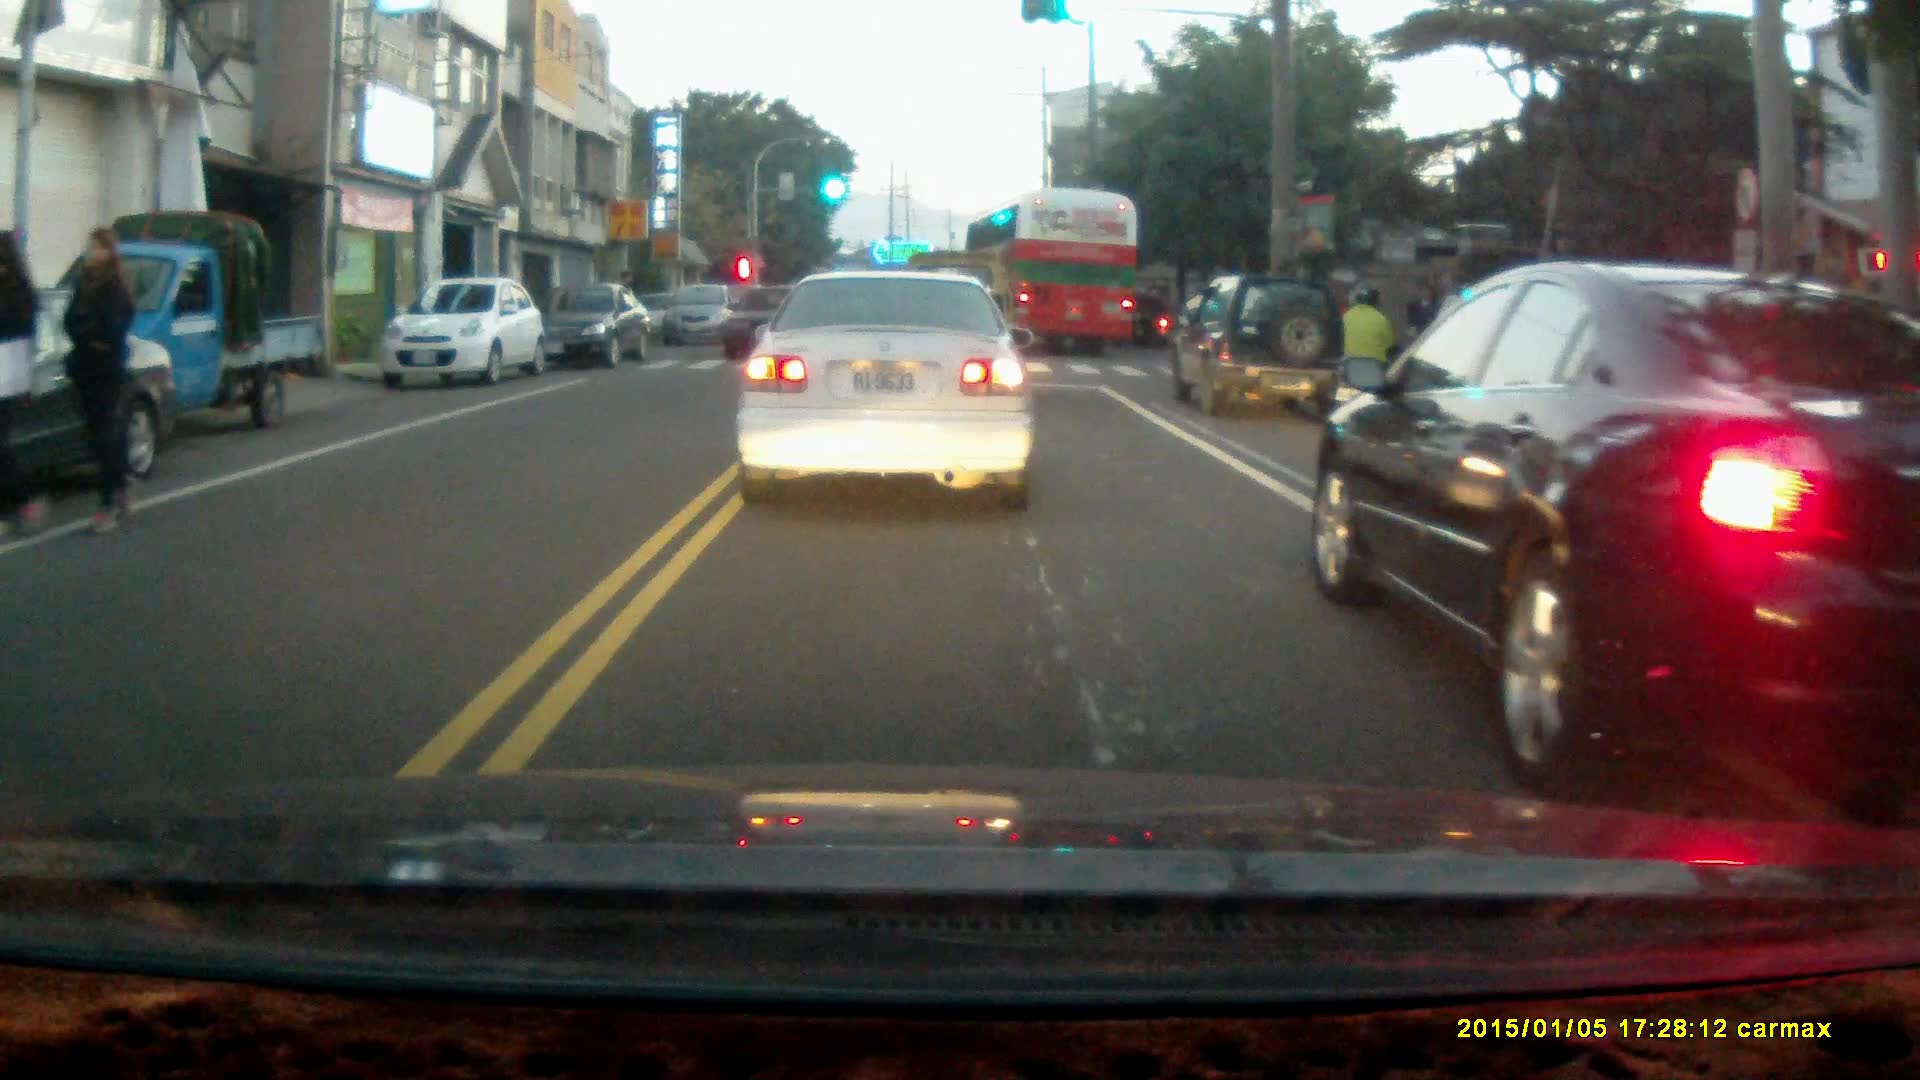pedestrian: (57, 224, 135, 535), (0, 229, 59, 542), (1403, 277, 1445, 392)
rider: (1331, 283, 1396, 430), (1116, 292, 1172, 349)
vehicle: (1312, 261, 1920, 797), (731, 267, 1035, 514), (49, 211, 316, 434), (1, 284, 182, 515), (963, 190, 1139, 357), (1171, 275, 1352, 423), (381, 280, 539, 390), (541, 281, 657, 371), (656, 286, 742, 355)
